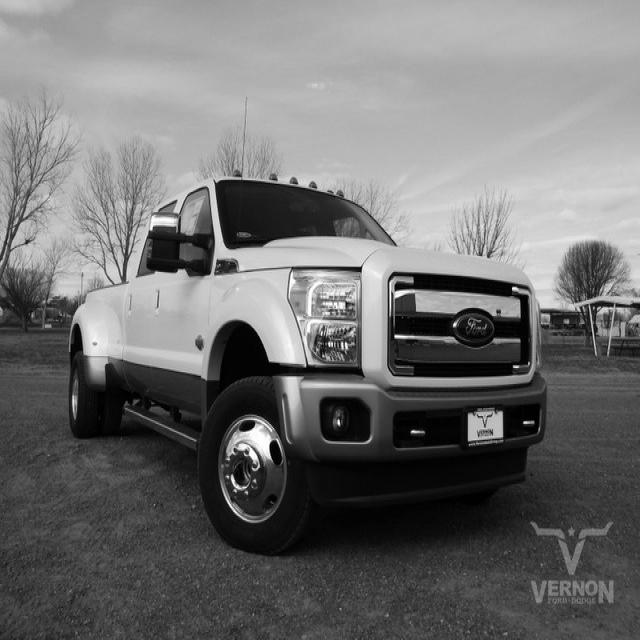car: (67, 168, 547, 555)
